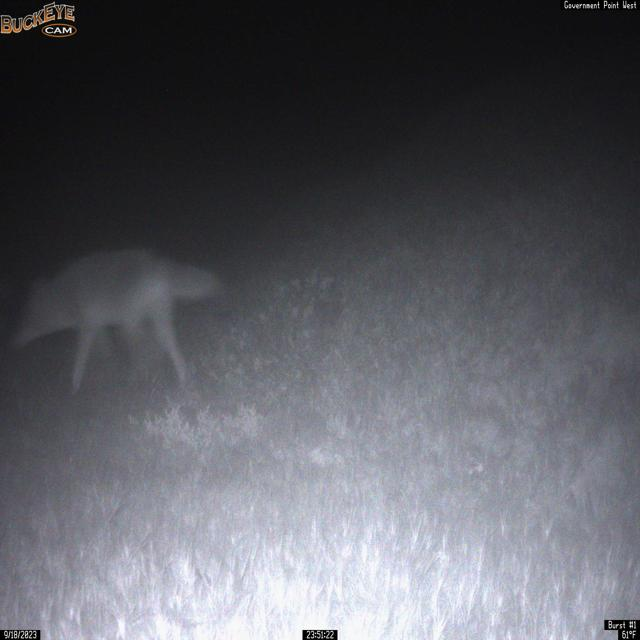coyote: (9, 245, 224, 399)
